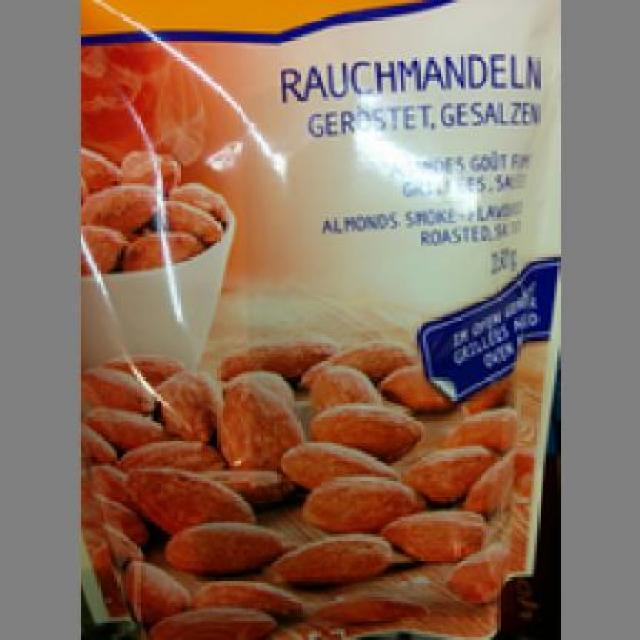Nuts: (74, 0, 554, 637)
